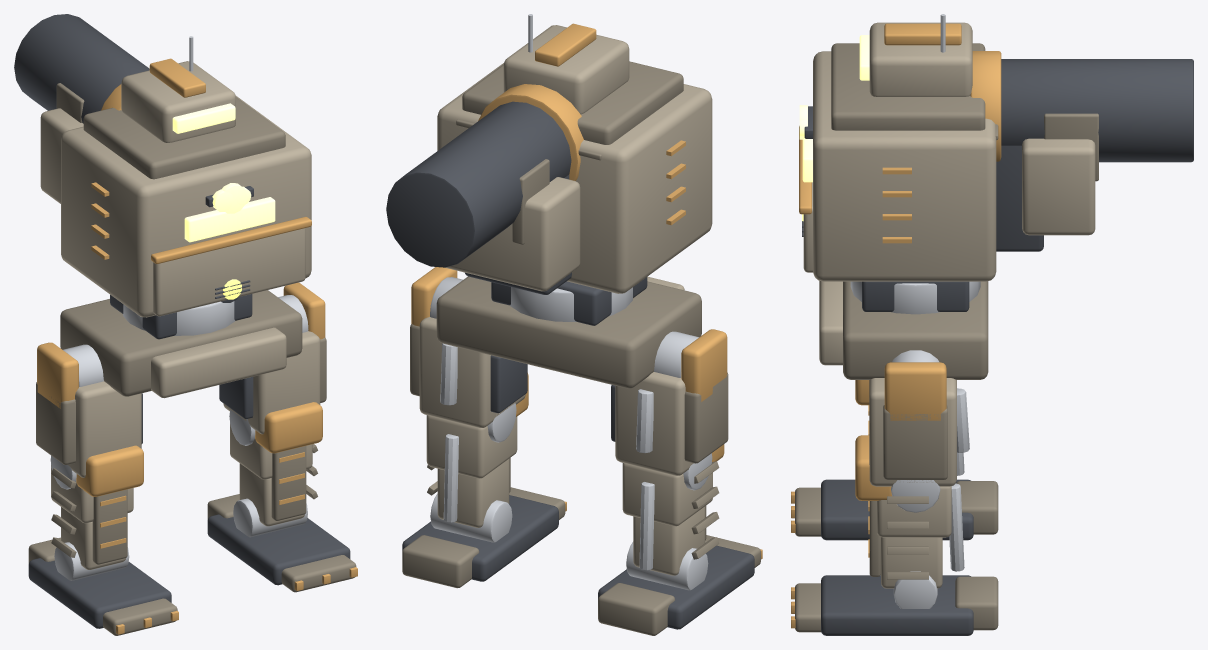
File: artillery.glb
3 views of the same model, side by side, from view 1: azimuth 30°, elevation 25°; view 2: azimuth 150°, elevation 25°; view 3: azimuth 270°, elevation 25° (orthographic). The views are drawn at different scales.
Visible parts, largest first — view 1: ART_torso_shell, ART_torso_plate, ART_torso_dark, ART_head_shell, ART_foot_r_dark, ART_foot_l_dark, ART_leg_r_trim, ART_leg_r_shell, ART_leg_l_shell, ART_leg_l_trim, ART_torso_glass, ART_knee_r_plate (+15 smaller); view 2: ART_torso_shell, ART_torso_plate, ART_torso_dark, ART_knee_l_shell, ART_head_shell, ART_knee_r_shell, ART_leg_r_shell, ART_leg_l_shell, ART_foot_l_dark, ART_foot_r_dark, ART_foot_l_plate, ART_foot_r_plate (+13 smaller); view 3: ART_torso_shell, ART_torso_dark, ART_torso_plate, ART_foot_l_dark, ART_head_shell, ART_leg_l_trim, ART_knee_l_shell, ART_leg_l_plate, ART_torso_trim, ART_foot_l_plate, ART_foot_r_plate, ART_foot_r_dark (+7 smaller).
Part boxes in pixels (left/top/right/bottom): ART_torso_shell: left=40, top=95, right=311, bottom=398; ART_torso_plate: left=56, top=83, right=302, bottom=396; ART_torso_dark: left=14, top=14, right=253, bottom=339; ART_head_shell: left=121, top=61, right=235, bottom=142; ART_foot_r_dark: left=28, top=558, right=171, bottom=628; ART_foot_l_dark: left=207, top=514, right=350, bottom=585; ART_leg_r_trim: left=37, top=342, right=143, bottom=496; ART_leg_r_shell: left=68, top=381, right=141, bottom=477; ART_leg_l_shell: left=223, top=331, right=320, bottom=434; ART_leg_l_trim: left=255, top=282, right=325, bottom=453; ART_torso_glass: left=184, top=183, right=275, bottom=242; ART_knee_r_plate: left=51, top=468, right=127, bottom=564; ART_torso_shell: left=437, top=63, right=712, bottom=293; ART_torso_plate: left=436, top=61, right=701, bottom=388; ART_torso_dark: left=386, top=101, right=647, bottom=325; ART_knee_l_shell: left=426, top=415, right=517, bottom=527; ART_head_shell: left=503, top=25, right=629, bottom=114; ART_knee_r_shell: left=622, top=463, right=712, bottom=575; ART_leg_r_shell: left=615, top=372, right=693, bottom=475; ART_leg_l_shell: left=419, top=317, right=525, bottom=427; ART_foot_l_dark: left=402, top=495, right=558, bottom=581; ART_foot_r_dark: left=598, top=545, right=754, bottom=629; ART_foot_l_plate: left=402, top=487, right=565, bottom=588; ART_foot_r_plate: left=598, top=535, right=760, bottom=635; ART_torso_shell: left=803, top=51, right=1095, bottom=365; ART_torso_dark: left=802, top=59, right=1193, bottom=311; ART_torso_plate: left=831, top=43, right=1098, bottom=379; ART_foot_l_dark: left=821, top=575, right=973, bottom=635; ART_head_shell: left=869, top=22, right=972, bottom=96; ART_leg_l_trim: left=855, top=362, right=946, bottom=500; ART_knee_l_shell: left=877, top=486, right=951, bottom=588; ART_leg_l_plate: left=883, top=405, right=947, bottom=479; ART_torso_trim: left=799, top=51, right=1001, bottom=243; ART_foot_l_plate: left=795, top=576, right=998, bottom=632; ART_foot_r_plate: left=795, top=481, right=998, bottom=536; ART_foot_r_dark: left=821, top=479, right=973, bottom=540.
Bounding box in the file's own units: 2.95 × 5.52 × 3.56.
